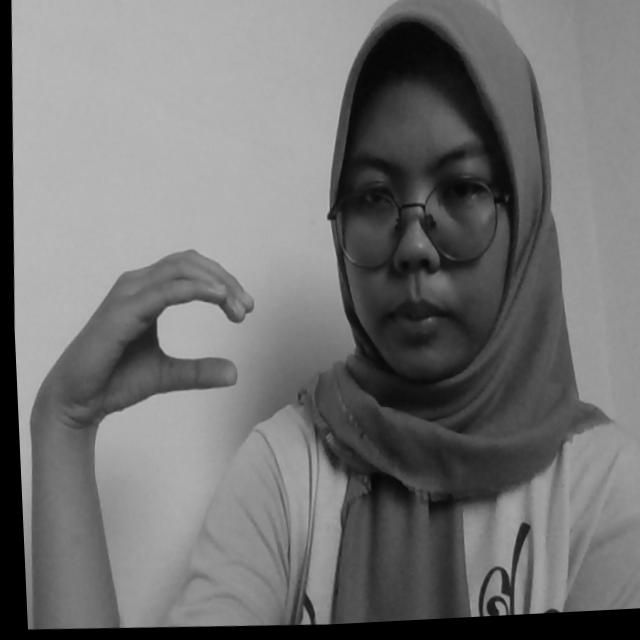C: (18, 239, 258, 432)
